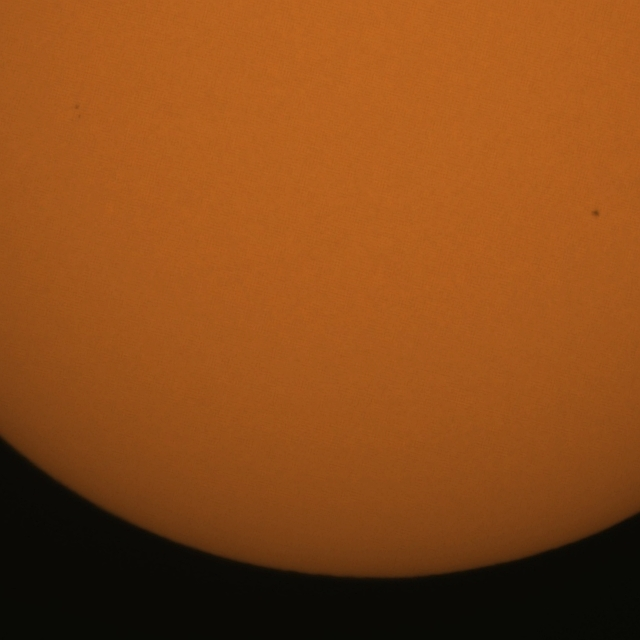sunspot: (72, 102, 82, 118), (590, 208, 601, 219)
